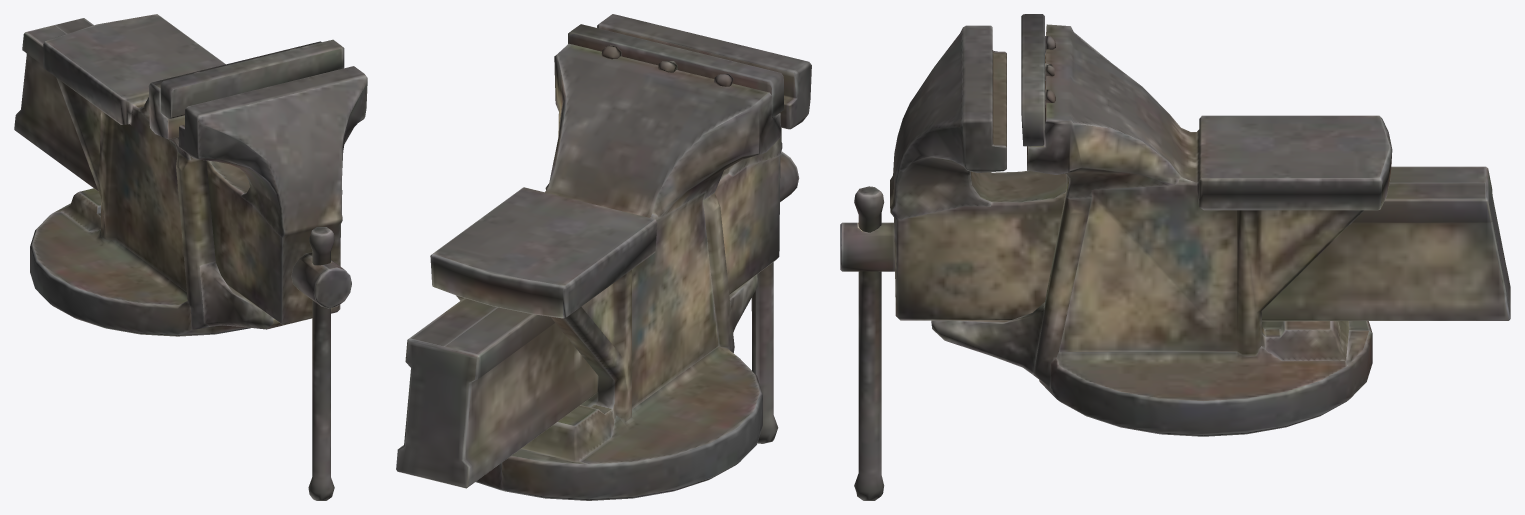
The model's file is vise.glb.
3 renders of one model, left to right at view 1: azimuth 30°, elevation 25°; view 2: azimuth 150°, elevation 25°; view 3: azimuth 270°, elevation 25°, orthographic. The views are drawn at different scales.
Parts seen in each view (by area): view 1: bench_vice_frame, bench_vice_clamp, bench_vice_bar, bench_vice_dial; view 2: bench_vice_frame, bench_vice_clamp, bench_vice_bar, bench_vice_dial; view 3: bench_vice_frame, bench_vice_clamp, bench_vice_bar, bench_vice_dial.
Part boxes in pixels (<box>): bench_vice_frame: <box>30,14,344,336</box>; bench_vice_clamp: <box>14,18,367,325</box>; bench_vice_bar: <box>308,227,334,500</box>; bench_vice_dial: <box>291,252,351,308</box>; bench_vice_frame: <box>430,24,783,500</box>; bench_vice_clamp: <box>396,14,811,488</box>; bench_vice_bar: <box>751,262,778,443</box>; bench_vice_dial: <box>780,151,799,201</box>; bench_vice_frame: <box>931,14,1392,436</box>; bench_vice_clamp: <box>890,25,1510,321</box>; bench_vice_bar: <box>854,186,884,500</box>; bench_vice_dial: <box>840,222,894,271</box>.
Bounding box in the file's own units: 0.2005 × 0.2845 × 0.3957.
1 material, 1 textured.
